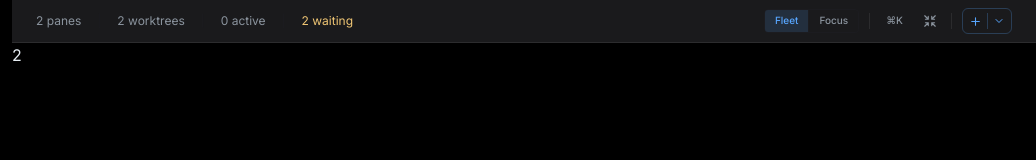
AttentionPeek › opening › opens on click and closes again on a second click
Click the button with test id "resource-attention-stat" at (327, 21), box [302,13,353,29]
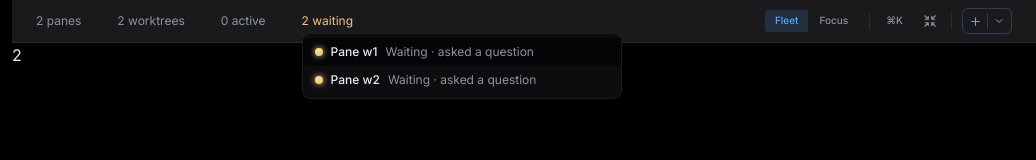
Result: the menu named "Waiting agents" is shown at [302,33,622,99]
Click the button with test id "resource-attention-stat" at (327, 21), box [302,13,353,29]
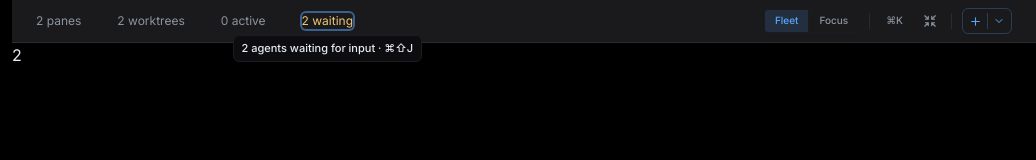
Result: the button with test id "resource-attention-stat" is collapsed at [302,13,353,29]
